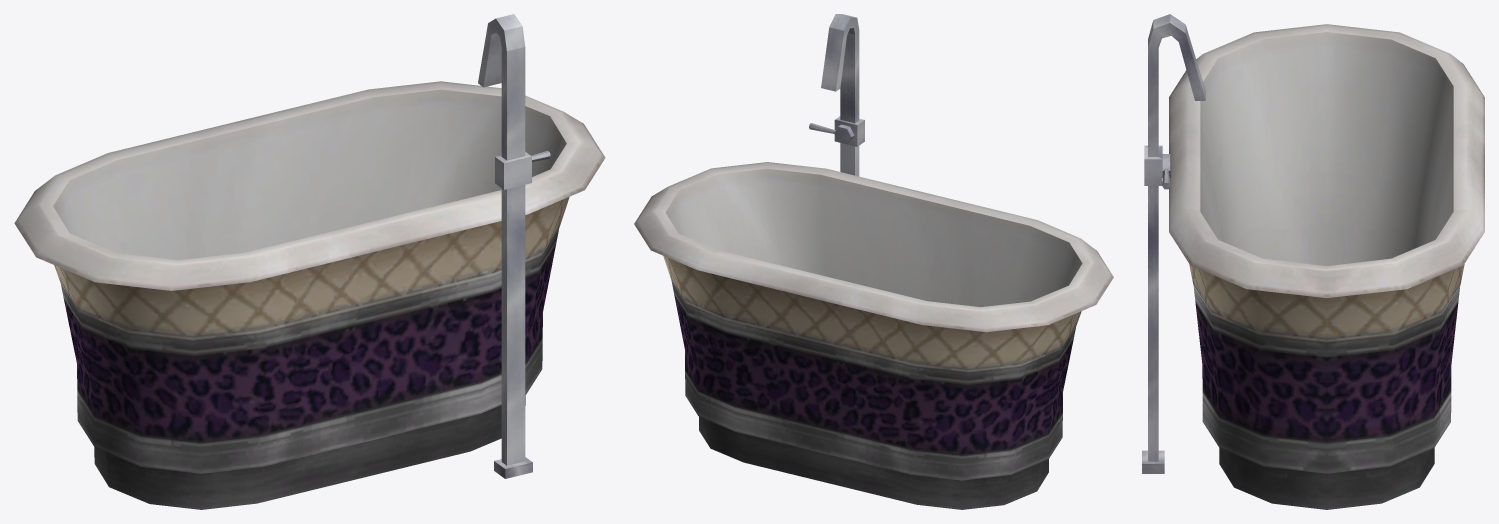
File: furni_0200083_03.FBX
3 views of the same model, side by side, from view 1: azimuth 30°, elevation 25°; view 2: azimuth 150°, elevation 25°; view 3: azimuth 270°, elevation 25° (orthographic). The views are drawn at different scales.
Parts seen in each view (by area): view 1: furni_0200083_03; view 2: furni_0200083_03; view 3: furni_0200083_03.
Part boxes in pixels (x1,y1,x2,y2): furni_0200083_03: [14, 14, 605, 509]; furni_0200083_03: [634, 14, 1113, 509]; furni_0200083_03: [1142, 14, 1484, 509].
Size of the model in its own units: 169 by 133 by 91.82.
Materials: 1 (1 with a texture image).
